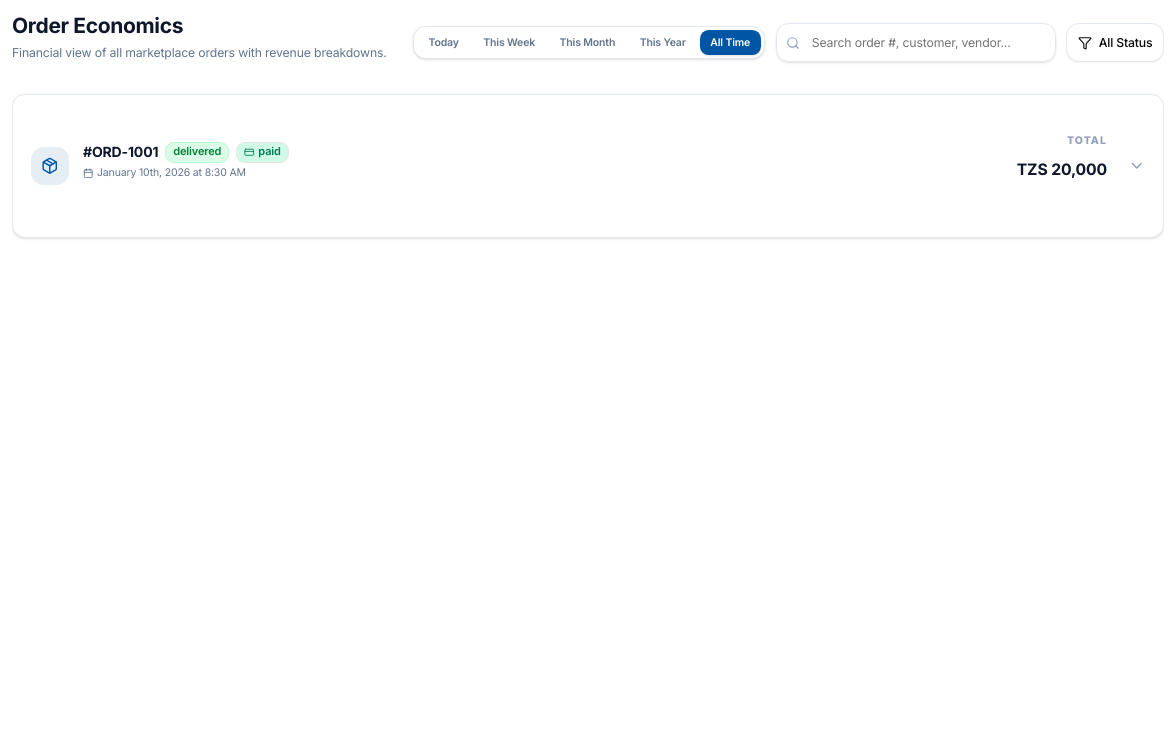
Test: FinanceOrdersTab › shows a transporter status badge only when set
Click the text "#ORD-1001" at (121, 152), box [83, 142, 158, 162]
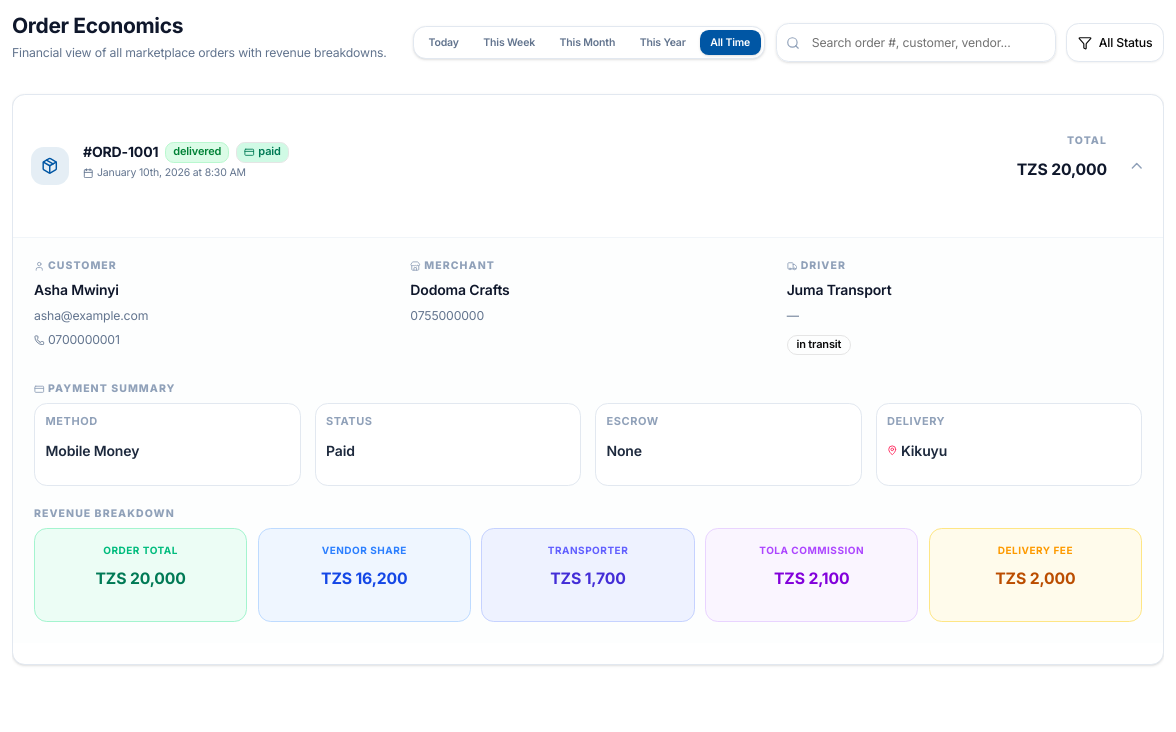
Expected: the text "in transit" is shown, [787, 335, 851, 356]
